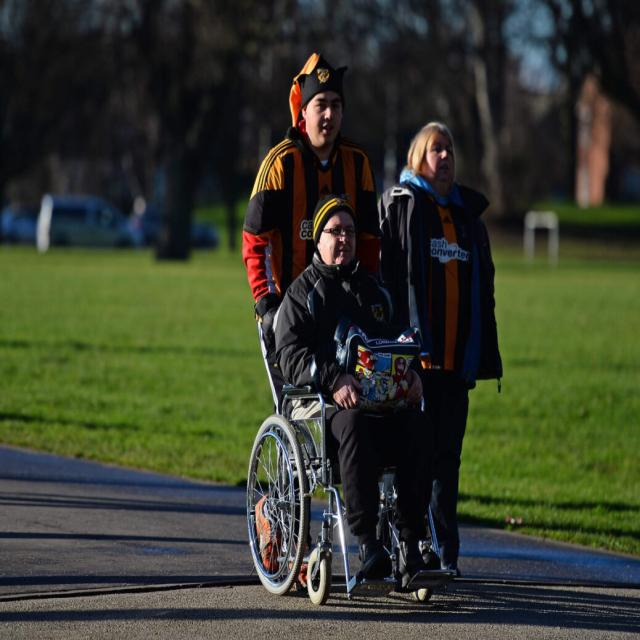wheelchairs: (229, 250, 462, 624)
